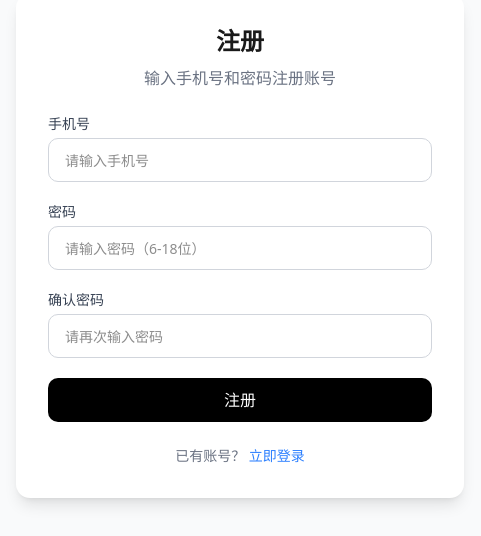
Scenario: RegisterPage › 两次密码不一致时显示错误
Type "13800138000" into the field with placeholder "请输入手机号" at x=240, y=160, box left=48, top=138, right=432, bottom=182
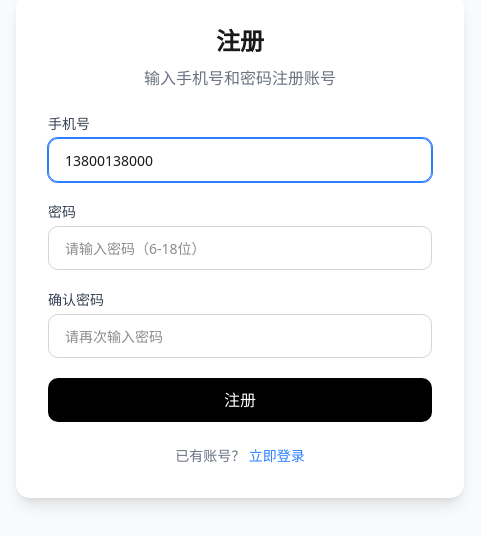
Type "123456" into the password field with placeholder "请输入密码（6-18位）" at x=240, y=248, box left=48, top=226, right=432, bottom=270
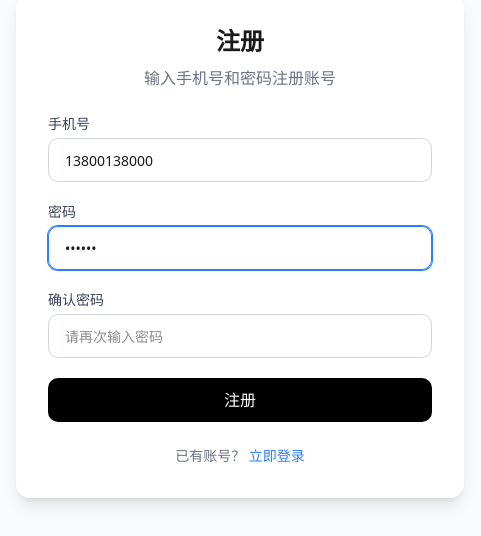
Type "654321" into the password field with placeholder "请再次输入密码" at x=240, y=336, box left=48, top=314, right=432, bottom=358
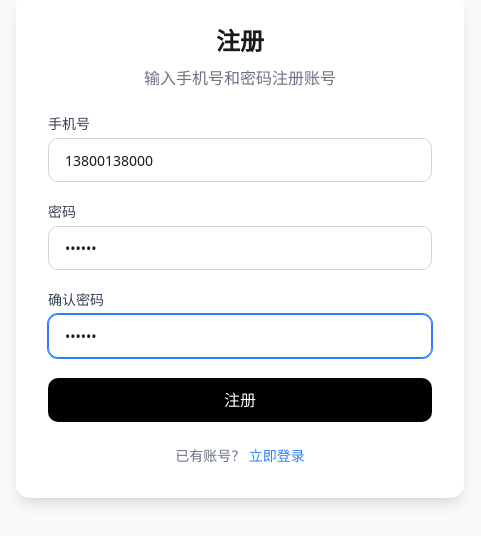
Click the button "注册" at x=240, y=400, box left=48, top=378, right=432, bottom=422
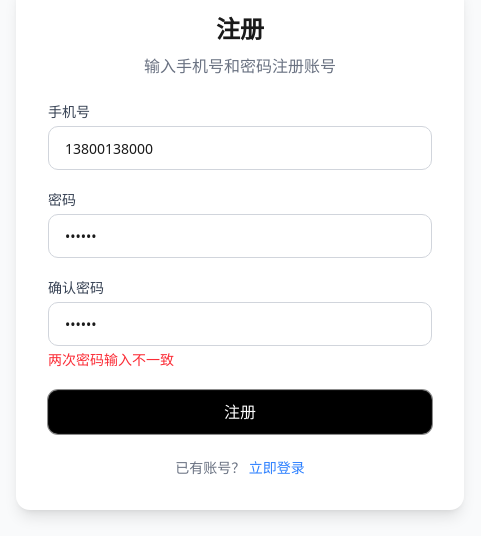
Now the text "两次密码输入不一致" is shown, box left=48, top=350, right=174, bottom=369
